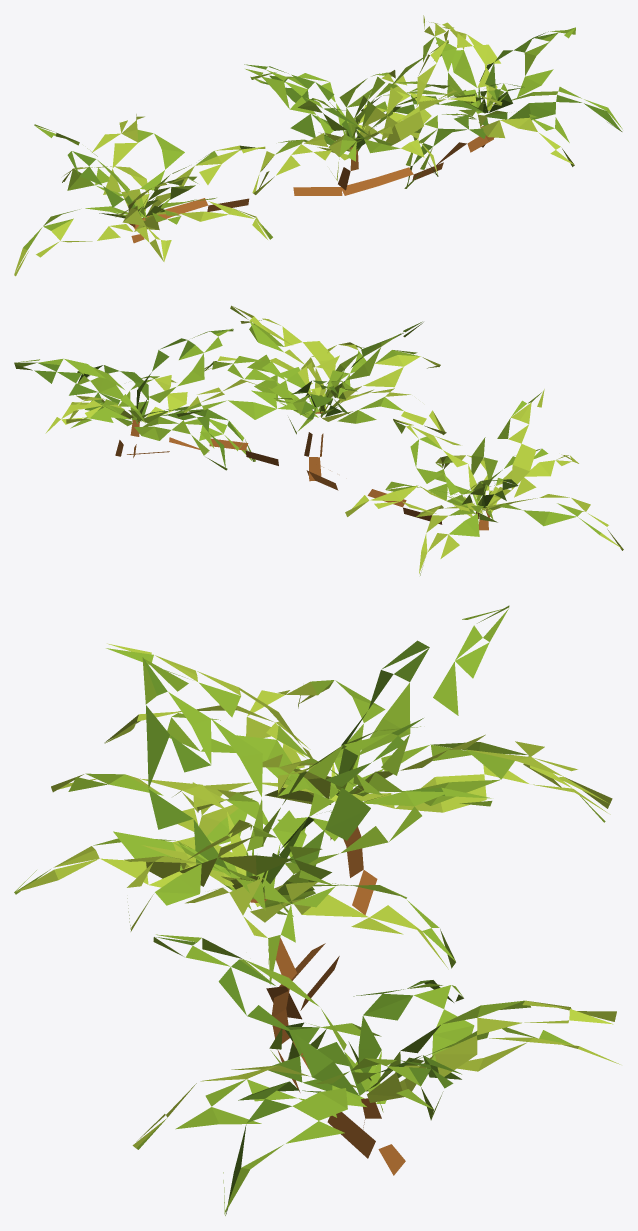
Rendered from lod_nmg_plant_b.glb.
3 renders of one model, top to bottom at view 1: azimuth 30°, elevation 25°; view 2: azimuth 150°, elevation 25°; view 3: azimuth 270°, elevation 25°, orthographic. The views are drawn at different scales.
Visible parts, largest first — view 1: nmg_plant_b; view 2: nmg_plant_b; view 3: nmg_plant_b.
Part boxes in pixels (<box>): nmg_plant_b: <box>14,15,622,276</box>; nmg_plant_b: <box>14,305,623,575</box>; nmg_plant_b: <box>14,605,620,1215</box>.
Size of the model in its own units: 1.97 by 0.4833 by 0.9311.
